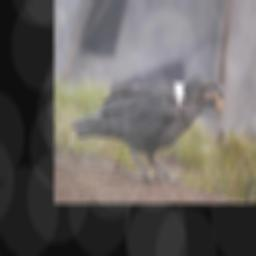Crow: (67, 71, 228, 187)
